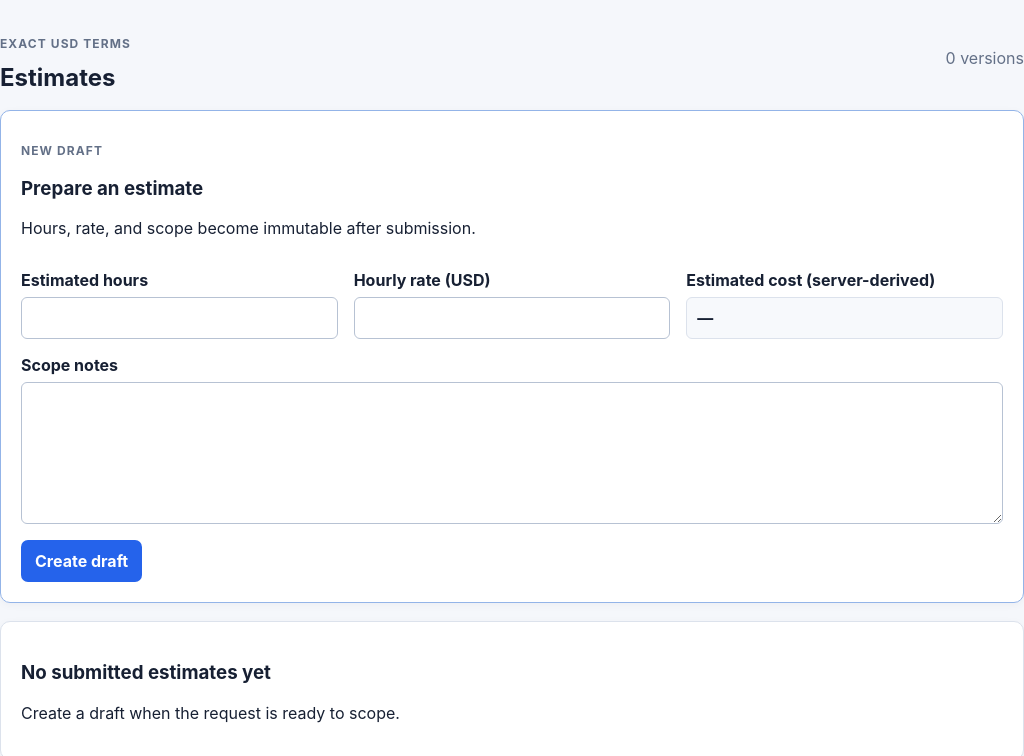
Scenario: estimate workflow UI › lets a manager validate exact terms, see derived USD cost, and create a normalized draft
The width and height of the screenshot is (1024, 756).
Check: the heading "Prepare an estimate" is shown, box [21,177,203,200]
Type "1.5" into the field labelled "Estimated hours" at point(179, 318), box [21,297,338,339]
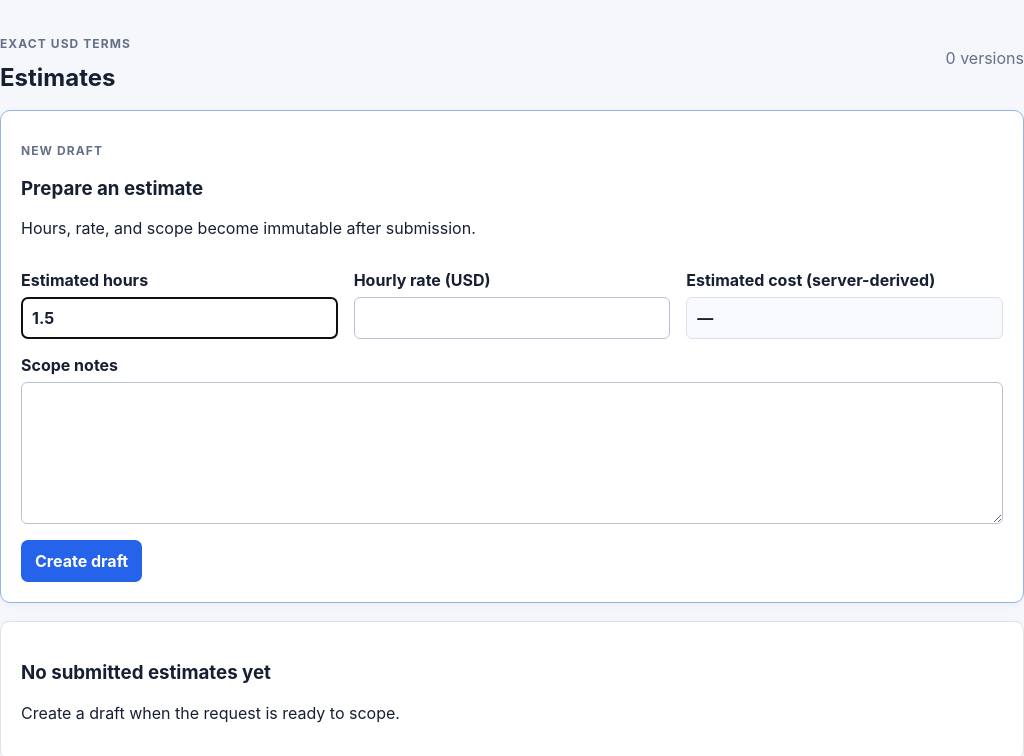
Type "0.01" into the field labelled "Hourly rate (USD)" at point(512, 318), box [354,297,670,339]
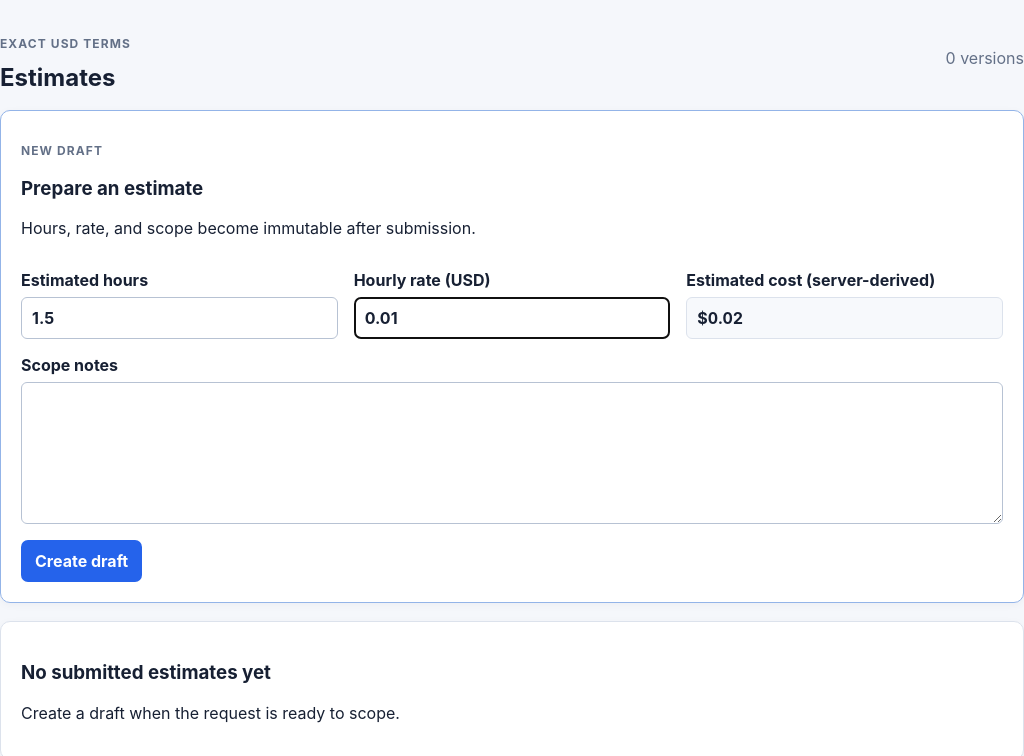
Type "Implement the approved exact estimate scope." into the text box labelled "Scope notes" at point(512, 453), box [21,382,1003,524]
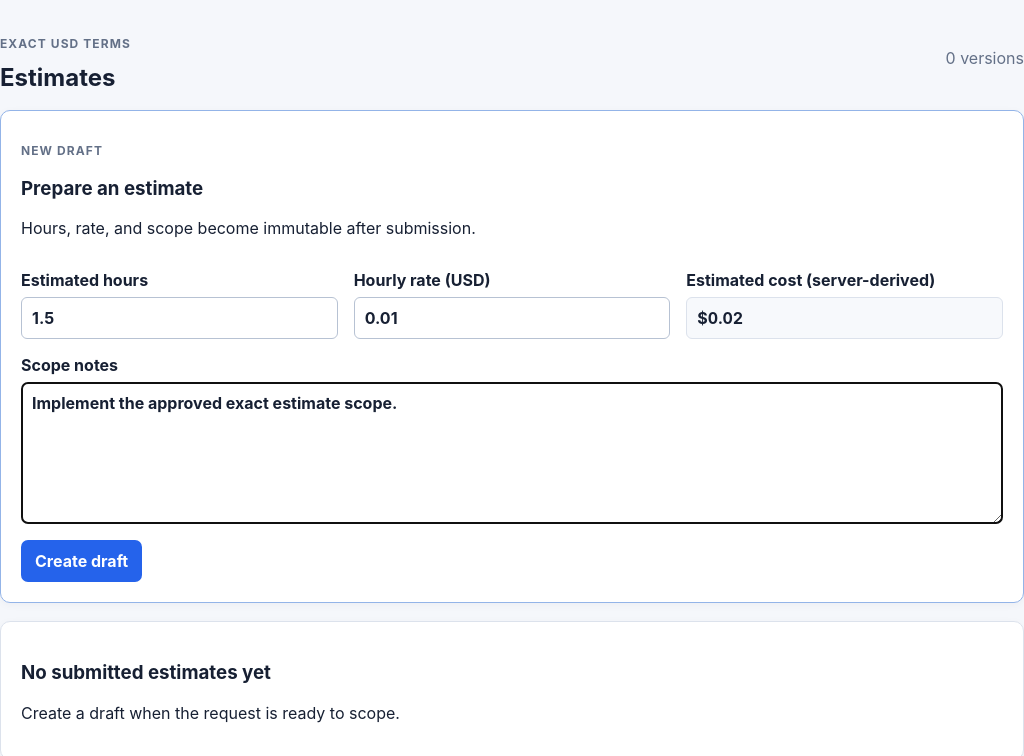
Check: the text named "Estimated cost (server-derived)" reads "$0.02", box [697,308,743,328]
Click the button "Create draft" at point(82, 561), box [21,540,142,582]
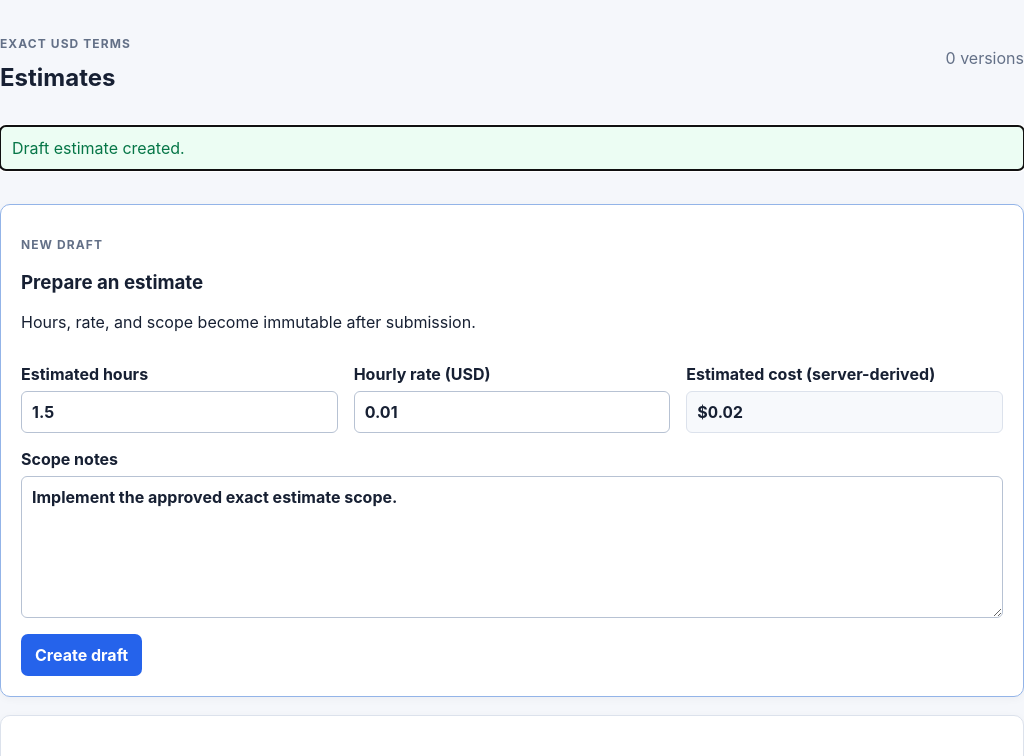
Check: the text "Draft estimate created." is shown, box [0,126,1023,170]
